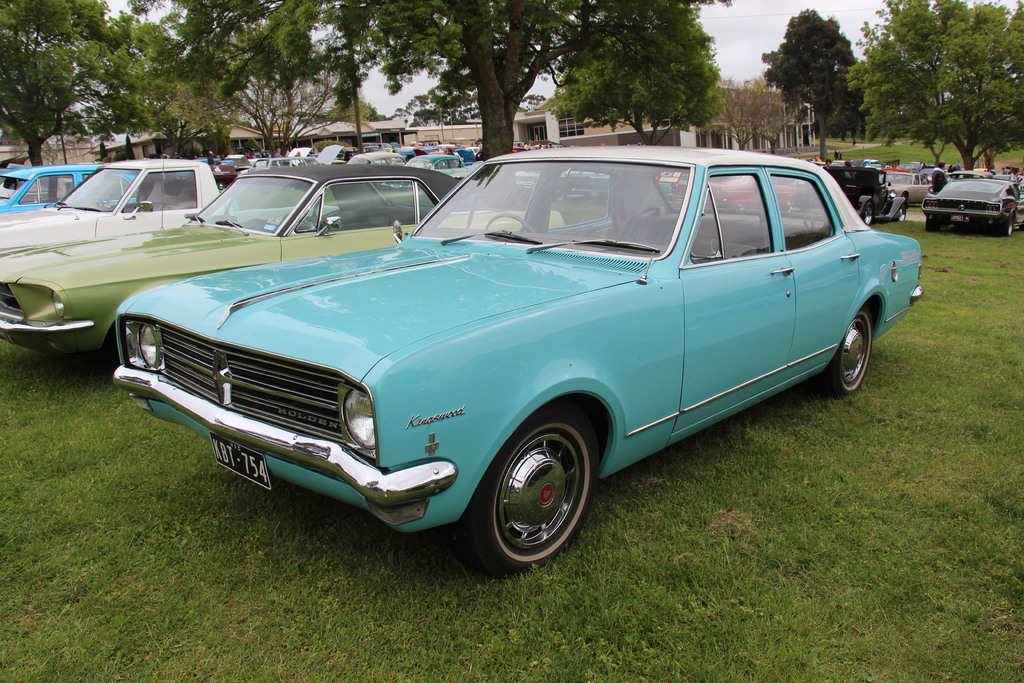Car: (110, 142, 923, 582), (0, 162, 568, 365), (0, 160, 242, 215), (926, 175, 1023, 239), (363, 140, 558, 163), (244, 143, 345, 175), (383, 154, 472, 189), (877, 169, 932, 208), (348, 150, 407, 165), (944, 170, 1023, 179)
